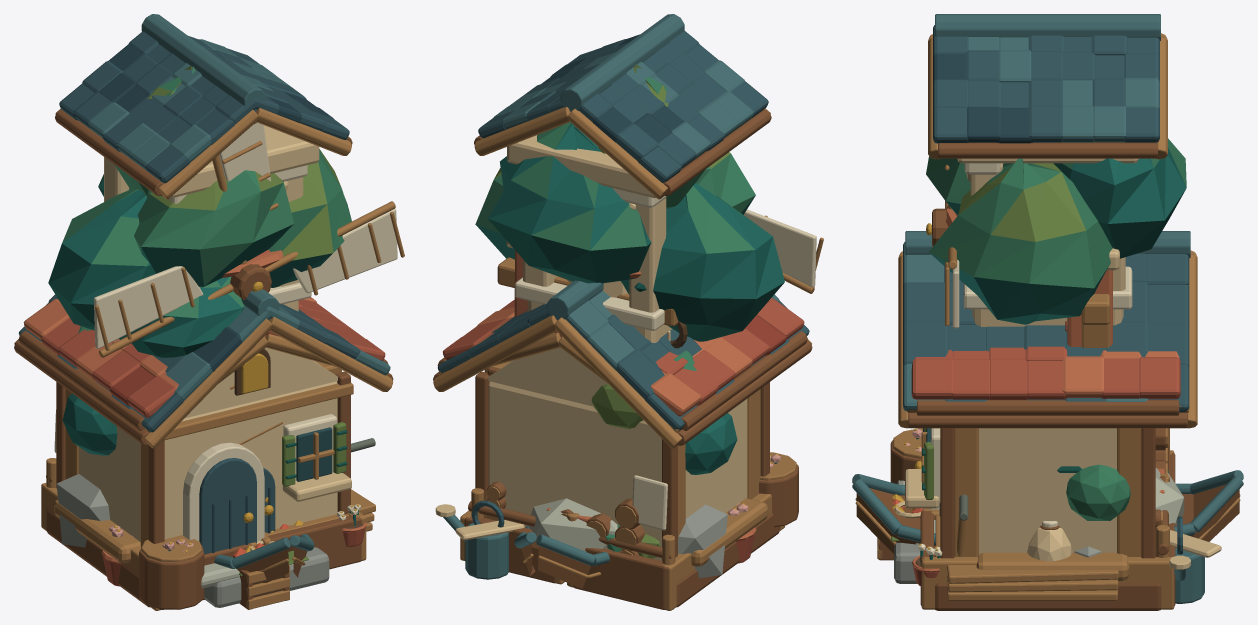
The model's file is village-kit.glb.
The picture shows the model from 3 angles, left to right: view 1: azimuth 30°, elevation 25°; view 2: azimuth 150°, elevation 25°; view 3: azimuth 270°, elevation 25°; orthographic projection. The views are drawn at different scales.
Parts seen in each view (by area): view 1: cottage_mesh, bell_mesh, broadleaf_mesh, lumber_mesh, rotor_mesh, garden_mesh, orchard_mesh, quarry_mesh, boat_mesh, hearth_mesh, windmill_mesh; view 2: cottage_mesh, bell_mesh, broadleaf_mesh, lumber_mesh, garden_mesh, quarry_mesh, orchard_mesh, boat_mesh, rotor_mesh, hearth_mesh; view 3: cottage_mesh, bell_mesh, lumber_mesh, broadleaf_mesh, boat_mesh, garden_mesh, orchard_mesh, quarry_mesh, hearth_mesh, rotor_mesh, windmill_mesh.
Boxes of the visible parts, x1=… form: cottage_mesh: x1=14, y1=289, x2=393, y2=588; bell_mesh: x1=55, y1=14, x2=352, y2=607; broadleaf_mesh: x1=48, y1=66, x2=351, y2=358; lumber_mesh: x1=18, y1=297, x2=387, y2=609; rotor_mesh: x1=94, y1=122, x2=404, y2=444; garden_mesh: x1=41, y1=483, x2=366, y2=610; orchard_mesh: x1=46, y1=326, x2=303, y2=532; quarry_mesh: x1=56, y1=438, x2=375, y2=547; boat_mesh: x1=214, y1=534, x2=314, y2=582; hearth_mesh: x1=54, y1=499, x2=140, y2=563; windmill_mesh: x1=222, y1=249, x2=283, y2=533; cottage_mesh: x1=433, y1=241, x2=812, y2=560; bell_mesh: x1=474, y1=14, x2=771, y2=563; broadleaf_mesh: x1=475, y1=64, x2=784, y2=341; lumber_mesh: x1=437, y1=298, x2=807, y2=607; garden_mesh: x1=435, y1=493, x2=784, y2=610; quarry_mesh: x1=497, y1=257, x2=727, y2=578; orchard_mesh: x1=468, y1=350, x2=737, y2=609; boat_mesh: x1=455, y1=507, x2=609, y2=588; rotor_mesh: x1=744, y1=209, x2=823, y2=293; hearth_mesh: x1=691, y1=498, x2=768, y2=566; cottage_mesh: x1=897, y1=231, x2=1197, y2=586; bell_mesh: x1=891, y1=14, x2=1167, y2=583; lumber_mesh: x1=890, y1=346, x2=1189, y2=610; broadleaf_mesh: x1=926, y1=138, x2=1186, y2=324; boat_mesh: x1=852, y1=468, x2=1243, y2=557; garden_mesh: x1=877, y1=450, x2=1204, y2=609; orchard_mesh: x1=934, y1=428, x2=1169, y2=557; quarry_mesh: x1=957, y1=294, x2=1184, y2=557; hearth_mesh: x1=976, y1=552, x2=1129, y2=580; rotor_mesh: x1=926, y1=164, x2=959, y2=328; windmill_mesh: x1=915, y1=205, x2=1072, y2=561.
Bounding box in the file's own units: 2.04 × 3.12 × 2.04.
